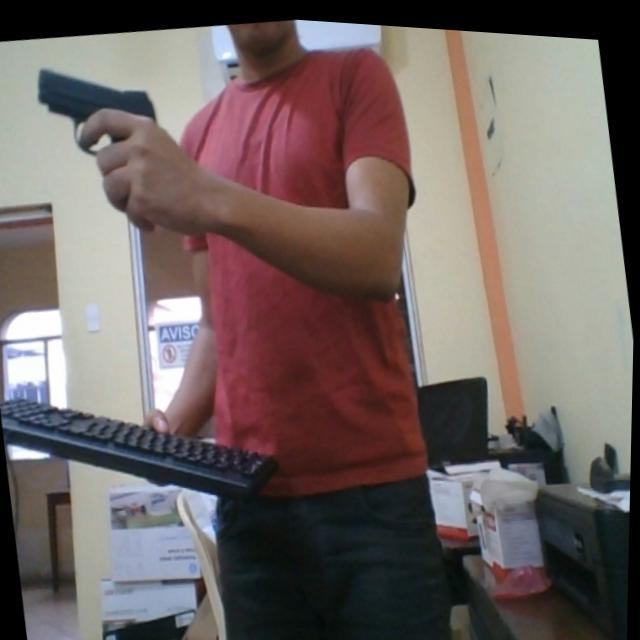weapon: (30, 46, 170, 174)
